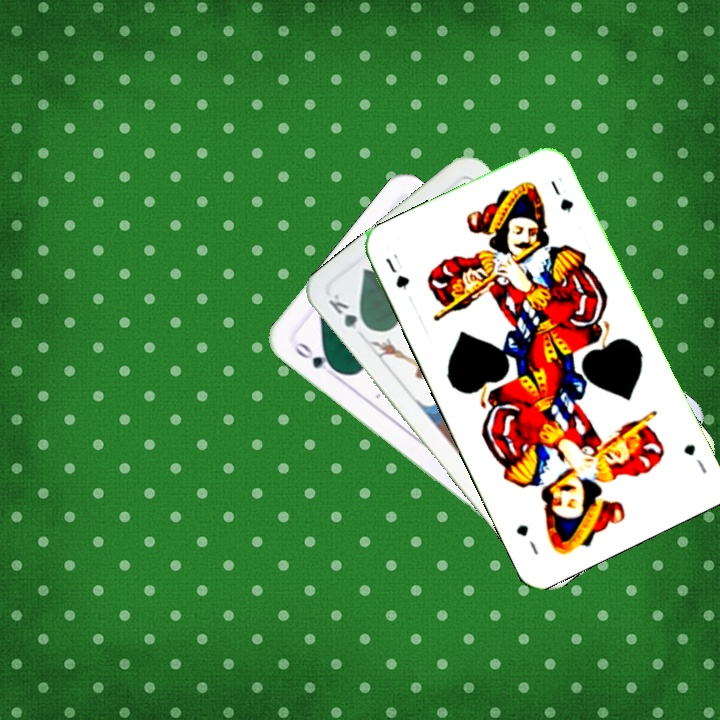GK: (324, 290, 373, 341)
GO: (289, 337, 341, 380)
GU: (381, 253, 412, 293), (679, 440, 710, 476)
